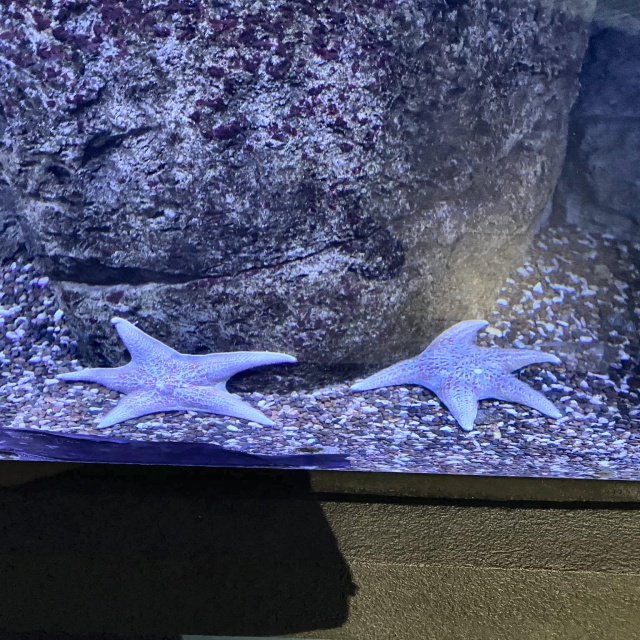starfish: (51, 317, 303, 430), (349, 314, 565, 431)
